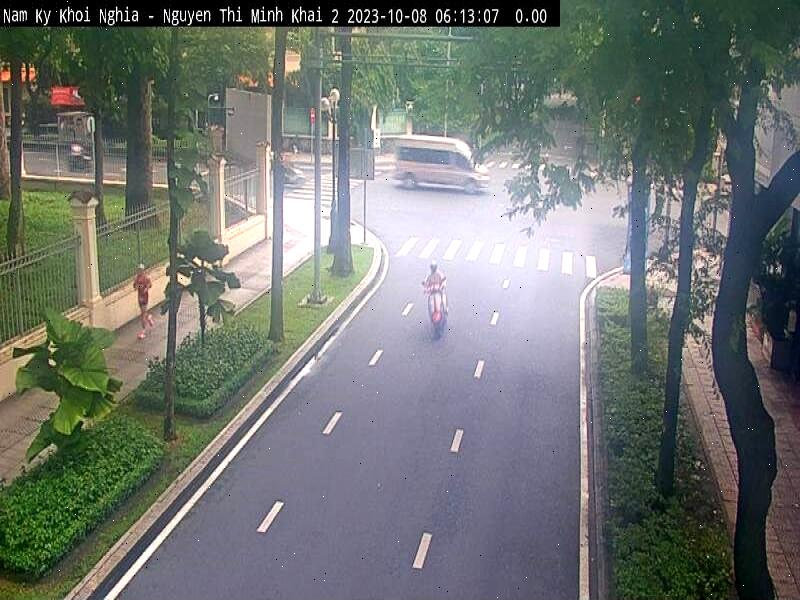motorcycle: (424, 279, 449, 335)
